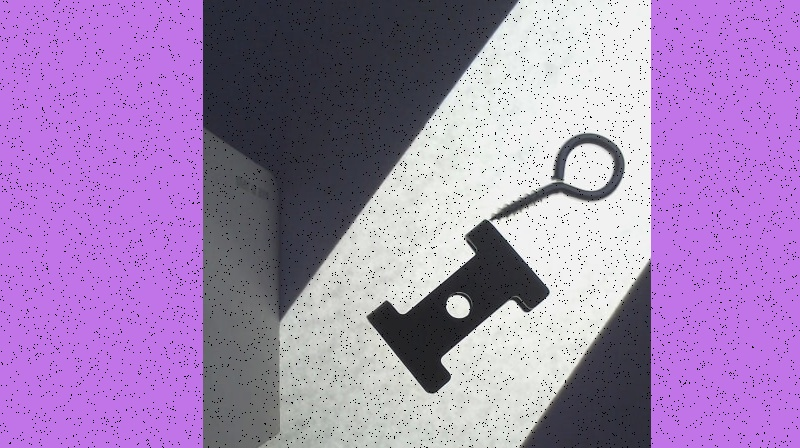O001: (486, 132, 624, 222)
O002: (366, 221, 548, 393)
S001: (322, 446, 494, 447)
